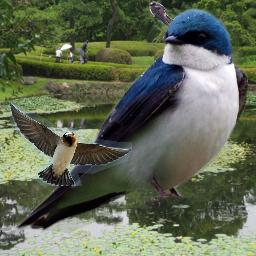Swallow: (15, 8, 249, 233), (8, 101, 132, 186), (149, 1, 174, 27)
